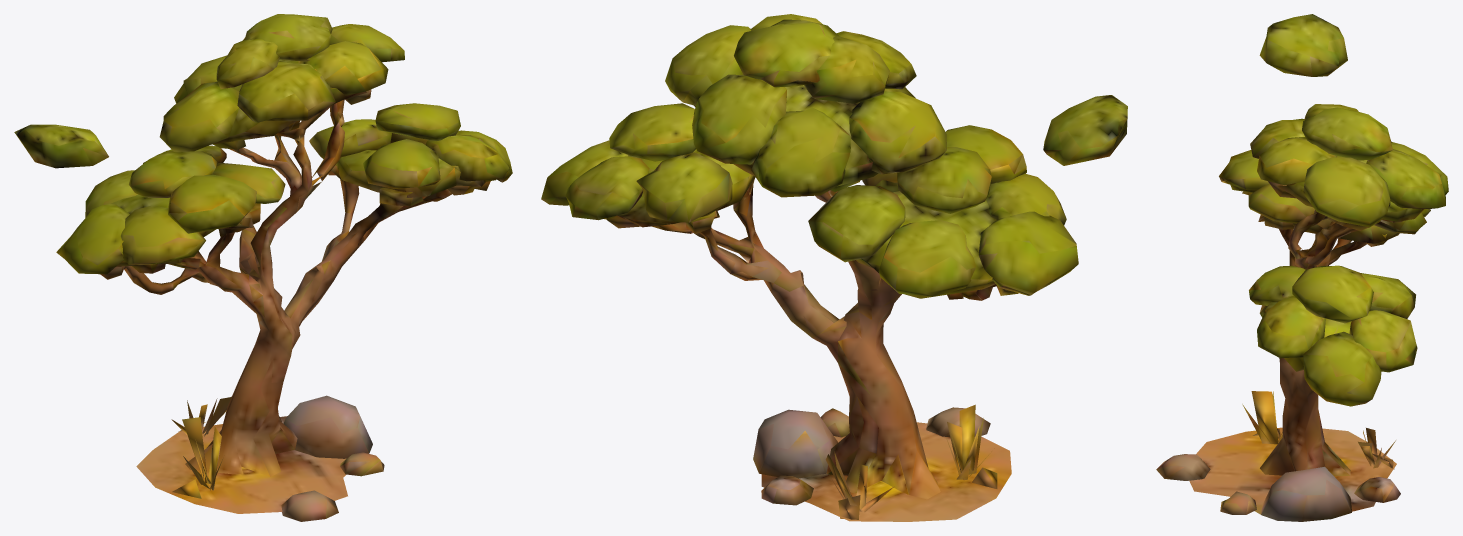
Rendered from tree_02.glb.
The picture shows the model from 3 angles, left to right: view 1: azimuth 30°, elevation 25°; view 2: azimuth 150°, elevation 25°; view 3: azimuth 270°, elevation 25°; orthographic projection. The views are drawn at different scales.
Visible parts, largest first — view 1: tree_02; view 2: tree_02; view 3: tree_02.
Boxes of the visible parts, x1,y1,x2,y2 form: tree_02: (14,14,512,521); tree_02: (541,14,1127,521); tree_02: (1156,14,1448,521).
Size of the model in its own units: 8.92 by 7 by 4.79.
1 material, 1 textured.
